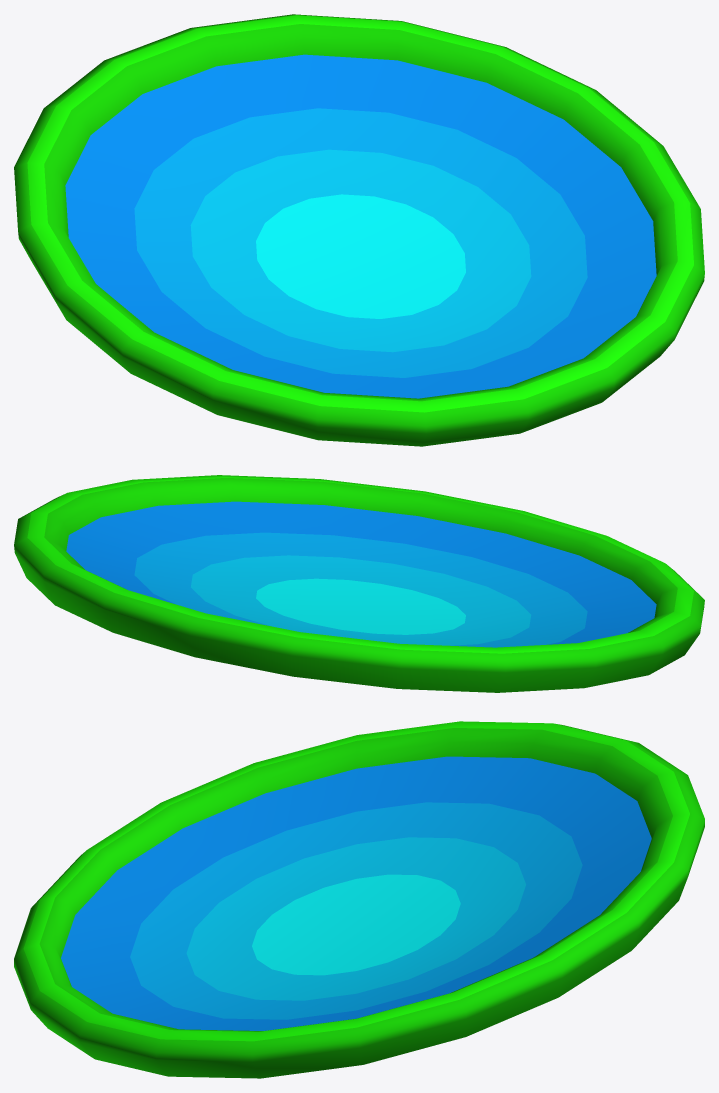
File: CPI_D_FBX_08_Portal_B.fbx
3 views of the same model, one above another, from view 1: azimuth 30°, elevation 25°; view 2: azimuth 150°, elevation 25°; view 3: azimuth 270°, elevation 25° (orthographic). The views are drawn at different scales.
Visible parts, largest first — view 1: CPI_D_FBX_08_Portal_B; view 2: CPI_D_FBX_08_Portal_B; view 3: CPI_D_FBX_08_Portal_B.
Boxes of the visible parts, x1=… form: CPI_D_FBX_08_Portal_B: x1=14, y1=14, x2=704, y2=446; CPI_D_FBX_08_Portal_B: x1=14, y1=475, x2=704, y2=692; CPI_D_FBX_08_Portal_B: x1=14, y1=721, x2=704, y2=1078.
Bounding box in the file's own units: 2.36 × 0.628 × 2.27.
